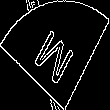M_SW: (30, 20, 80, 90)
